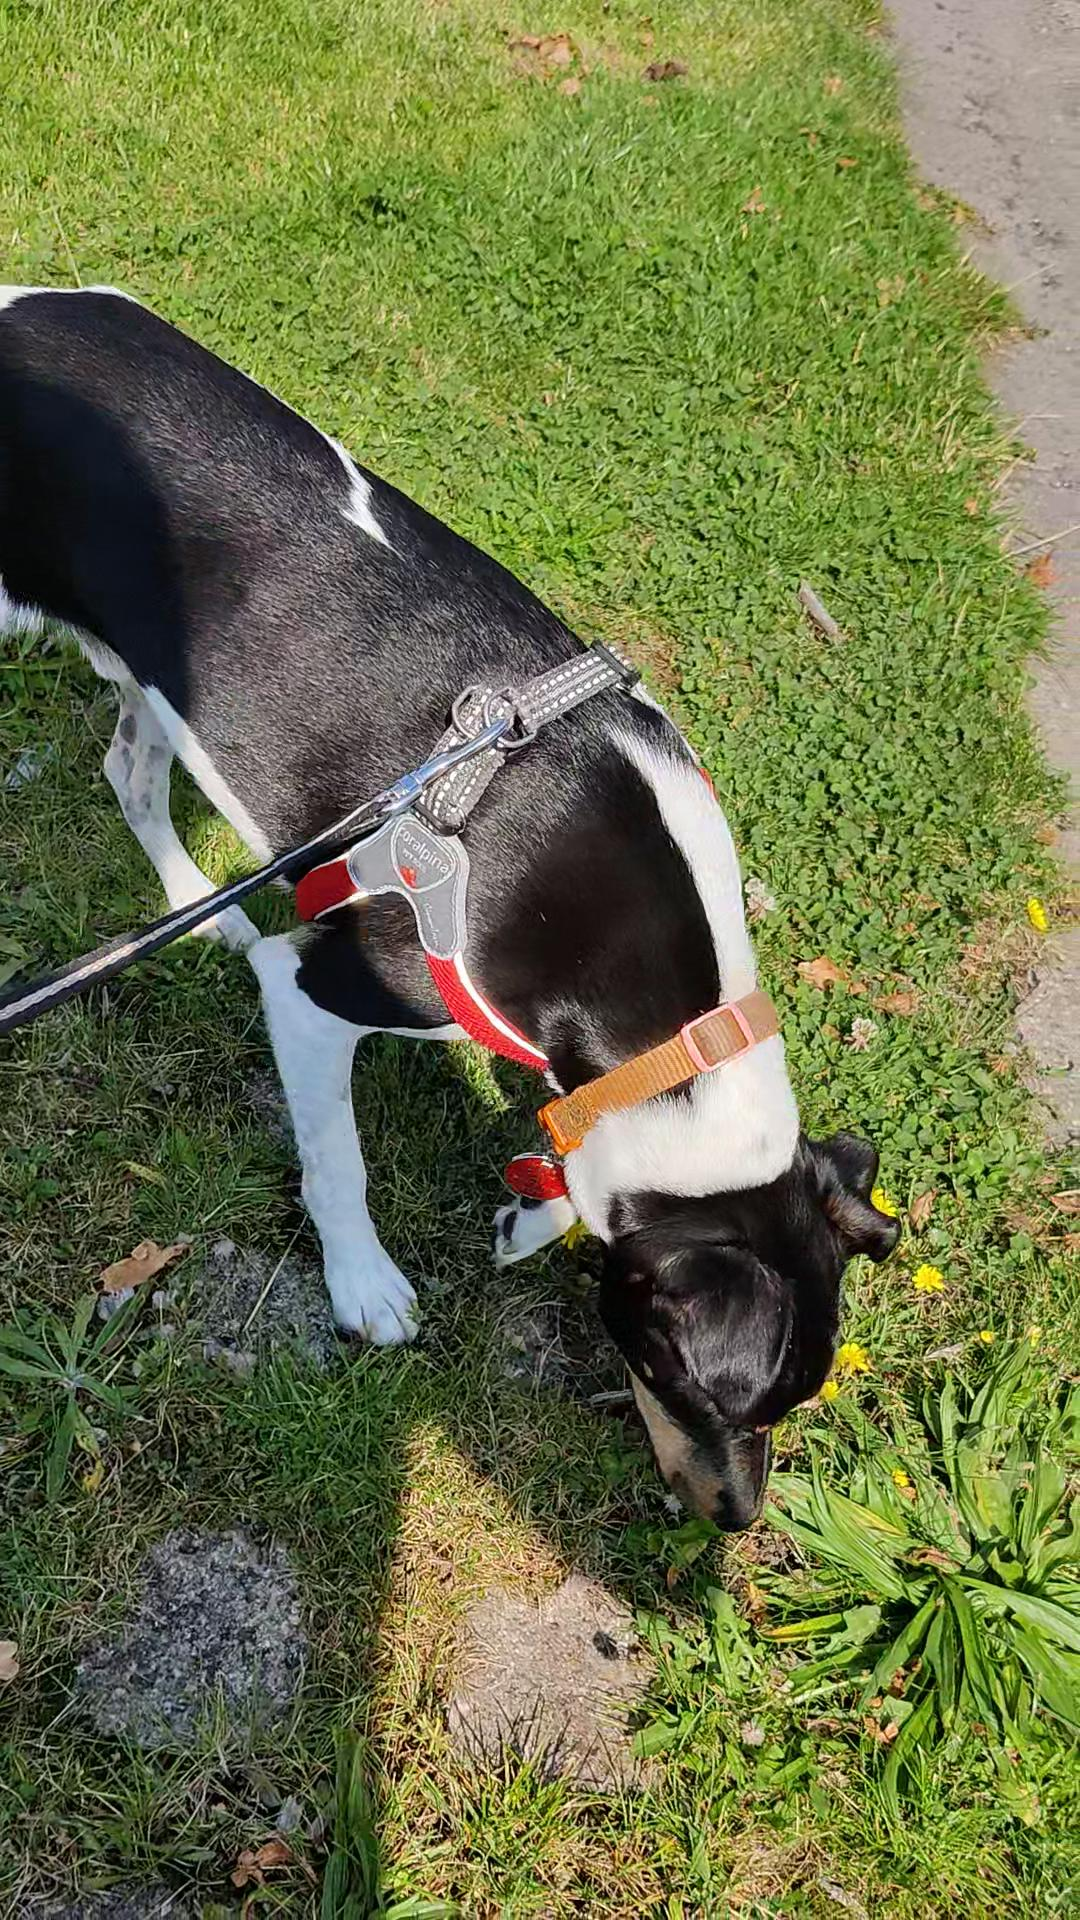Dog: (0, 237, 920, 1561)
